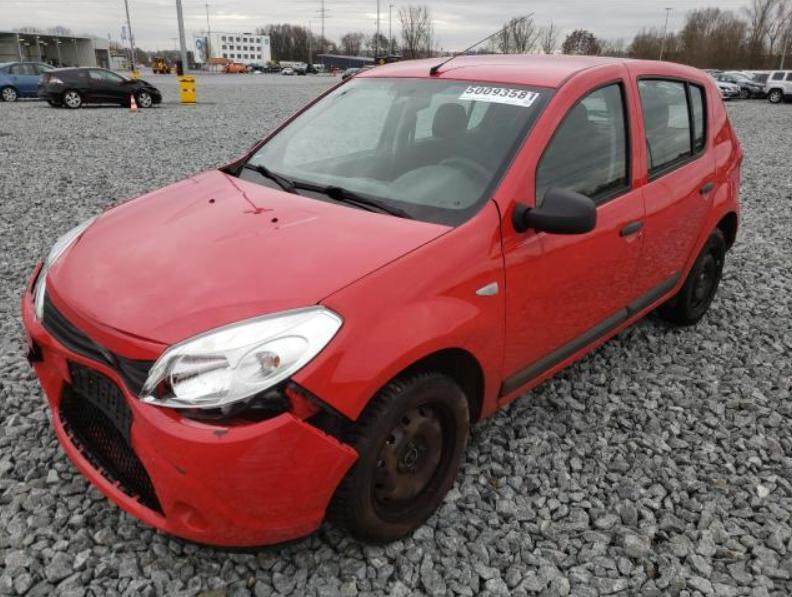Back-door: (626, 64, 717, 314)
Back-wheel: (659, 232, 726, 321)
Back-window: (635, 76, 706, 176)
Fender: (293, 201, 504, 423)
Front-bumper: (22, 287, 360, 548)
Front-door: (492, 63, 644, 401)
Front-wheel: (328, 365, 470, 542)
Front-window: (536, 71, 637, 201)
Grille: (44, 291, 154, 396)
Headlight: (135, 310, 342, 409), (31, 214, 99, 321)
Hood: (55, 168, 455, 347)
Mirror: (514, 186, 596, 234)
Quarter-panel: (679, 135, 742, 293)
Rocker-panel: (498, 281, 680, 413)
Roof: (354, 55, 718, 89)
Tail-light: (732, 127, 744, 167)
Windshield: (235, 76, 560, 218)
